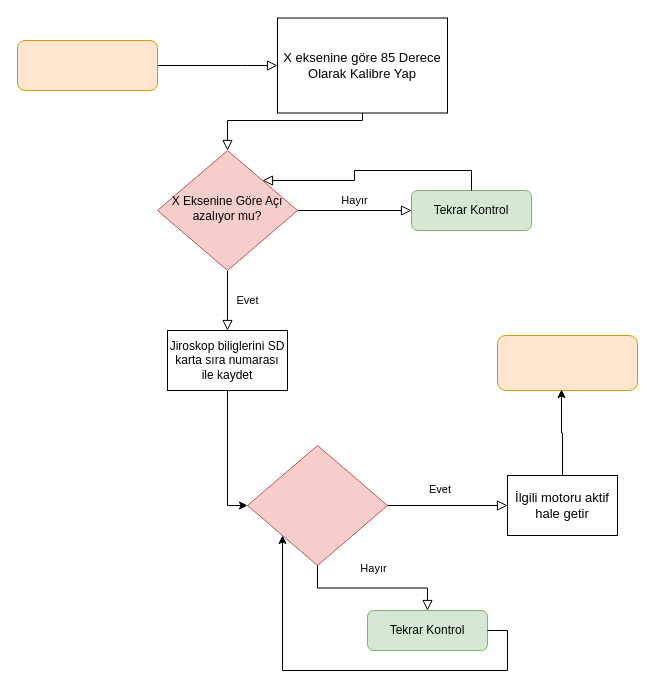
Some shapes in this 655 by 696 pixel diagram are drawn without their labels. Here are the shapes that lost their labels. From the top down, the centre of each, then its label:
pixel 87 65: KURTARMA SİSTEMİ KAPALI
pixel 567 362: KURTARMA SİSTEMİ AÇIK
pixel 317 505: Basınç Azalıyor Mu?
